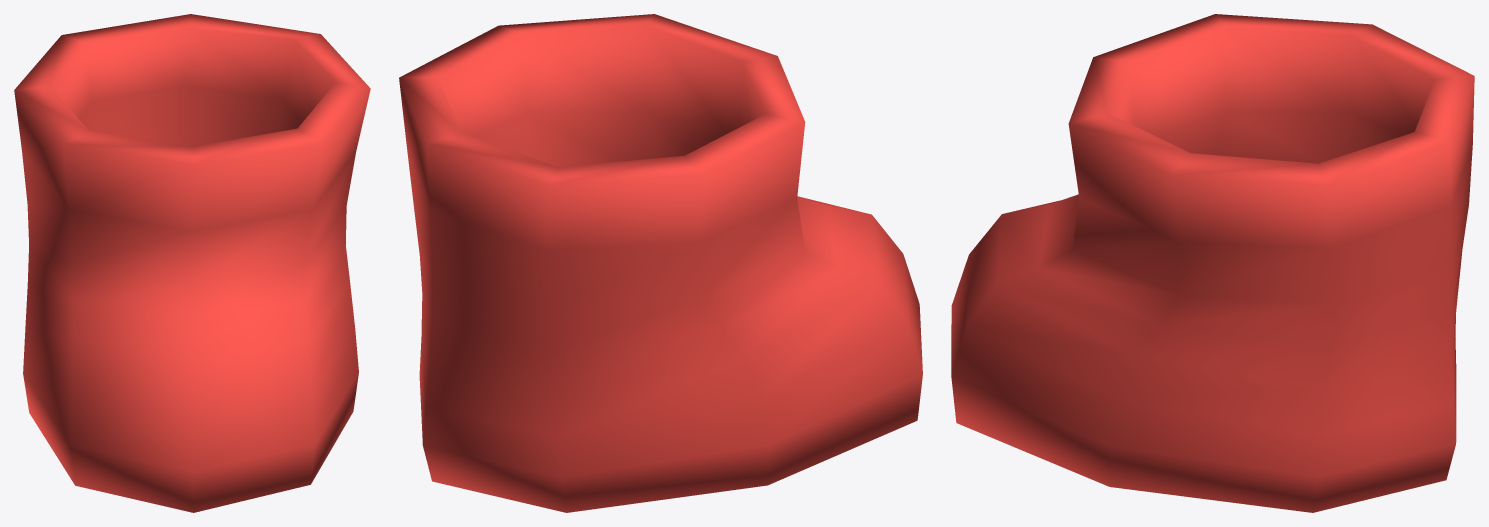
The model's file is redboot_r.fbx.
3 views of the same model, side by side, from view 1: azimuth 30°, elevation 25°; view 2: azimuth 150°, elevation 25°; view 3: azimuth 270°, elevation 25° (orthographic). The views are drawn at different scales.
Parts seen in each view (by area): view 1: redboot_r; view 2: redboot_r; view 3: redboot_r.
Part boxes in pixels (x1,y1,x2,y2): redboot_r: (14, 14, 370, 512); redboot_r: (399, 14, 922, 512); redboot_r: (951, 14, 1474, 512).
Bounding box in the file's own units: 11.41 × 9.36 × 12.7.
